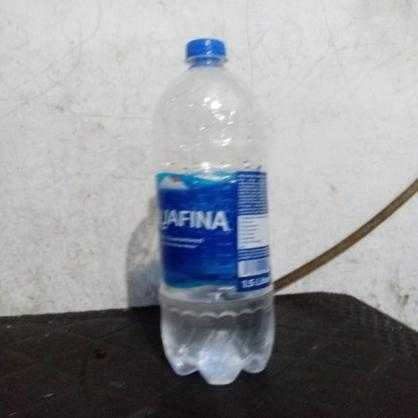bottle: (145, 28, 287, 390)
cap: (178, 34, 235, 68)
label: (151, 168, 281, 296)
